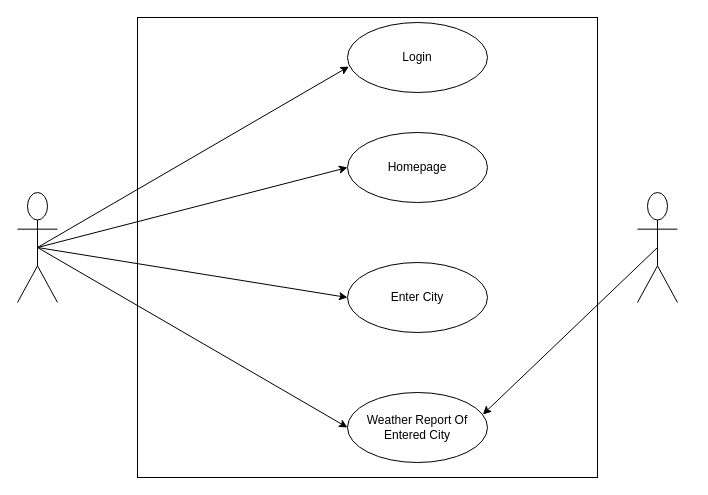
This 708x495 diagram has some shape labels left out. Each missing label, with the centre of its shape:
"User" belongs at (37,247).
"Weather API" belongs at (657,247).
